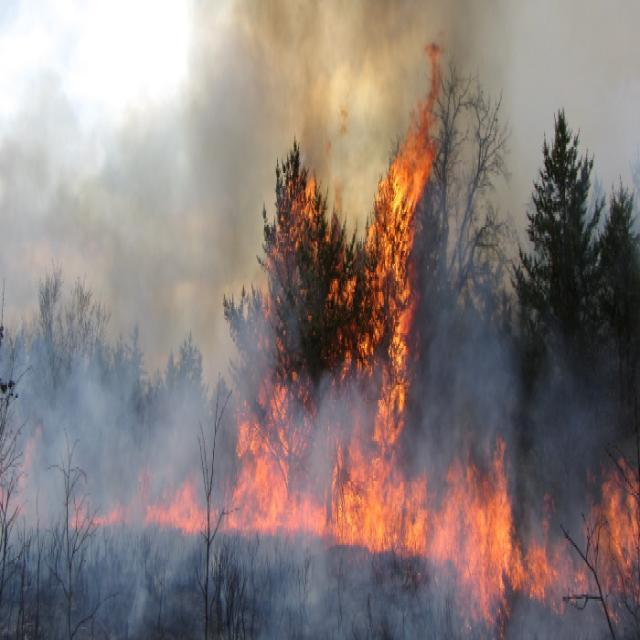Fire: (260, 174, 350, 360), (433, 440, 518, 622), (227, 474, 426, 544), (364, 208, 406, 426), (533, 511, 635, 594), (411, 36, 458, 209), (148, 483, 206, 536)
Smoke: (143, 2, 405, 177)
